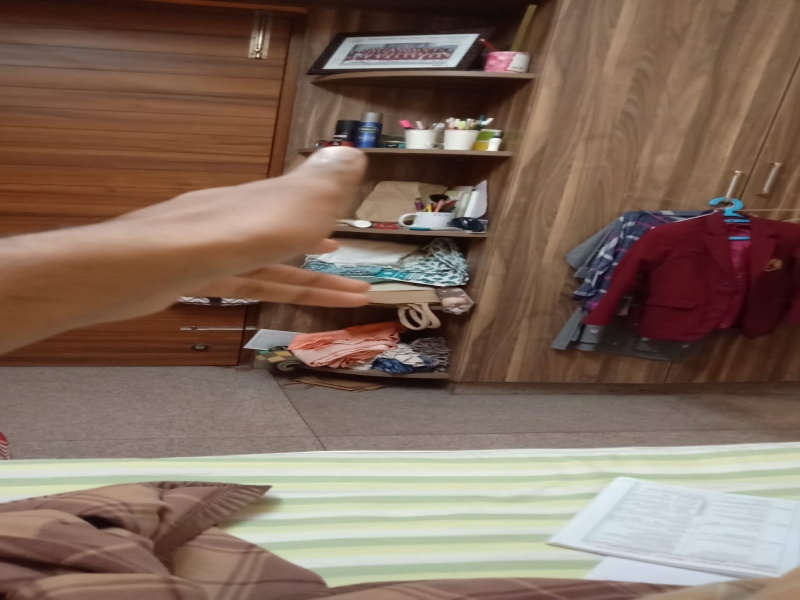Hand: (56, 132, 391, 340)
